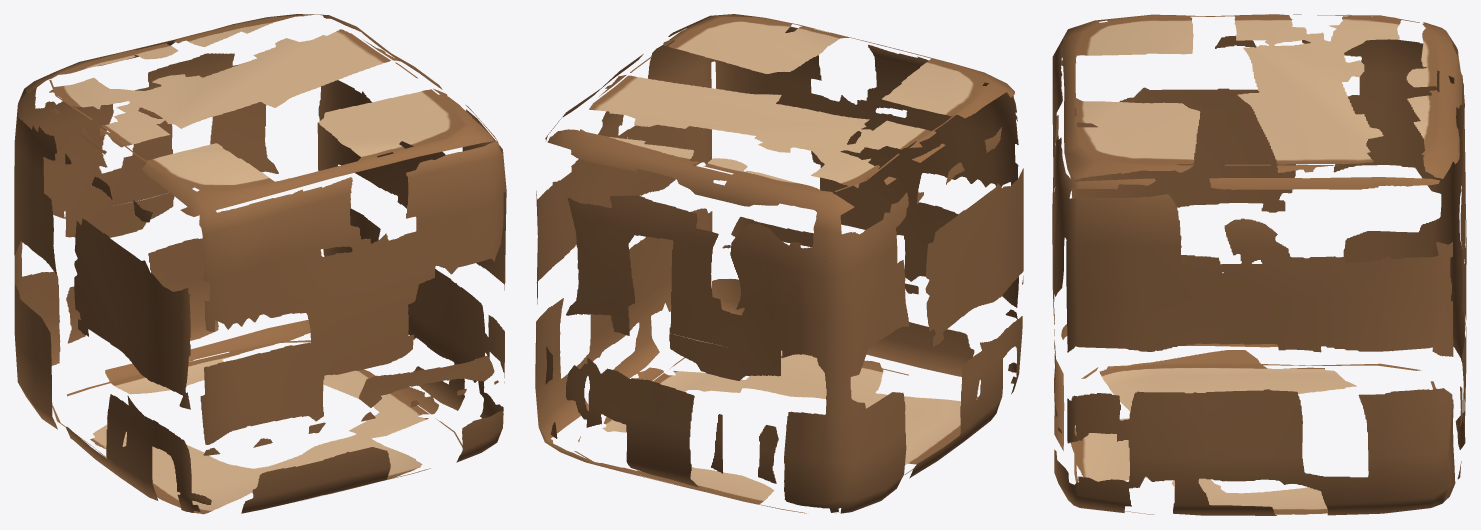
Rendered from newwood.fbx.
3 views of the same model, side by side, from view 1: azimuth 30°, elevation 25°; view 2: azimuth 150°, elevation 25°; view 3: azimuth 270°, elevation 25° (orthographic). The views are drawn at different scales.
Parts seen in each view (by area): view 1: DENEME; view 2: DENEME; view 3: DENEME.
Boxes of the visible parts, <box> form: DENEME: <box>14,14,506,514</box>; DENEME: <box>535,14,1023,513</box>; DENEME: <box>1052,14,1466,515</box>.
Size of the model in its own units: 1.09 by 1.01 by 1.09.
1 material, 1 textured.
